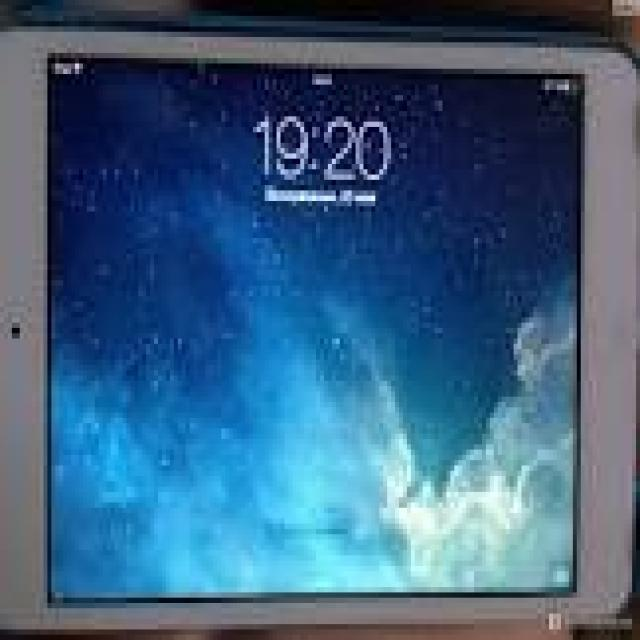dead_pixel: (327, 333, 348, 356)
